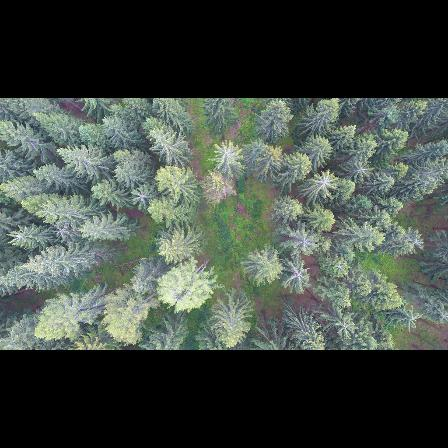Sick: (284, 228, 320, 255), (311, 167, 340, 196), (212, 141, 242, 168), (284, 260, 311, 290), (127, 184, 155, 210), (331, 315, 359, 341), (352, 159, 376, 180)
